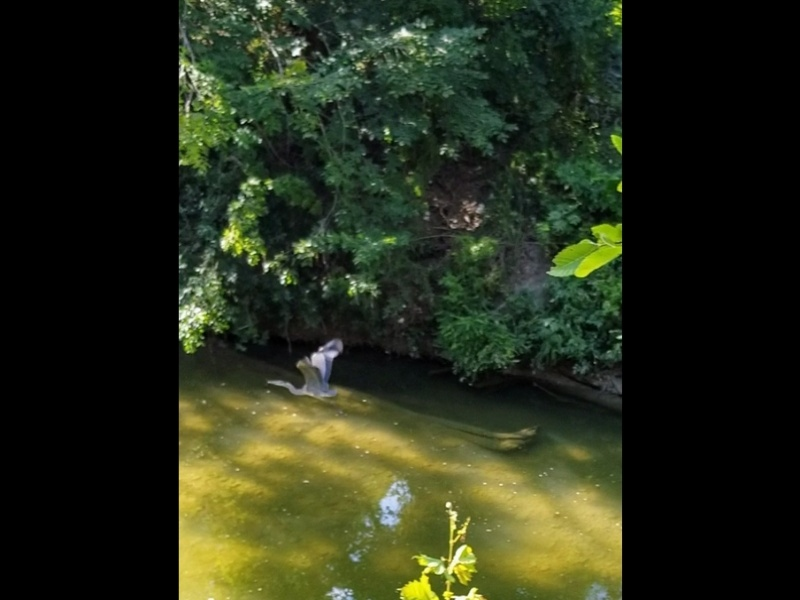heron: (264, 341, 347, 405)
